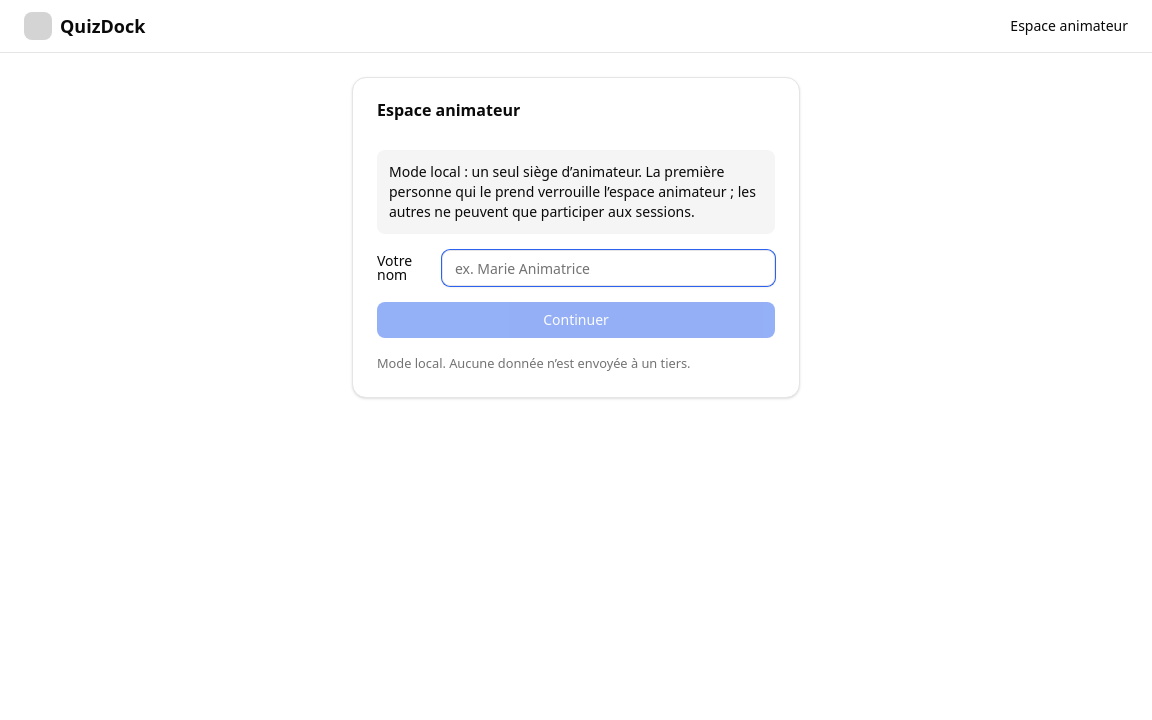
LoginPage › connecte en mode local et redirige vers le tableau de bord
The image size is (1152, 720).
Type "Marie" into the field labelled "Votre nom" at (608, 268), box x1=442 y1=250 x2=775 y2=286
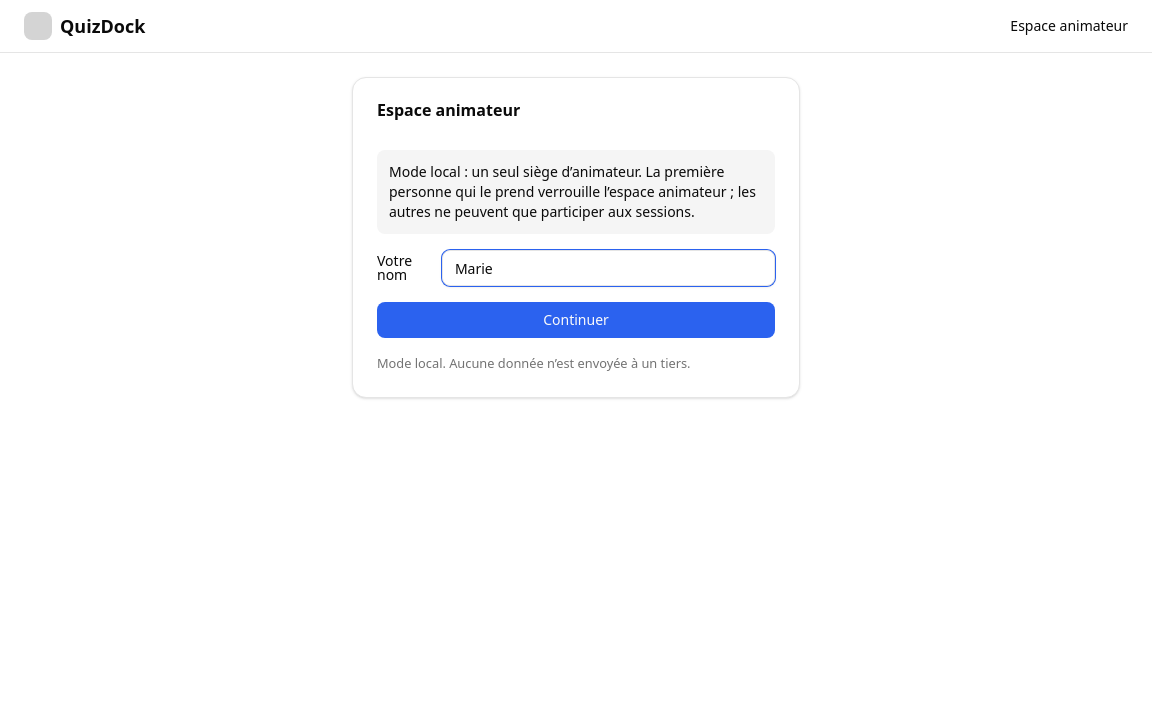
Click the button "Continuer" at (576, 320), box x1=377 y1=302 x2=775 y2=338
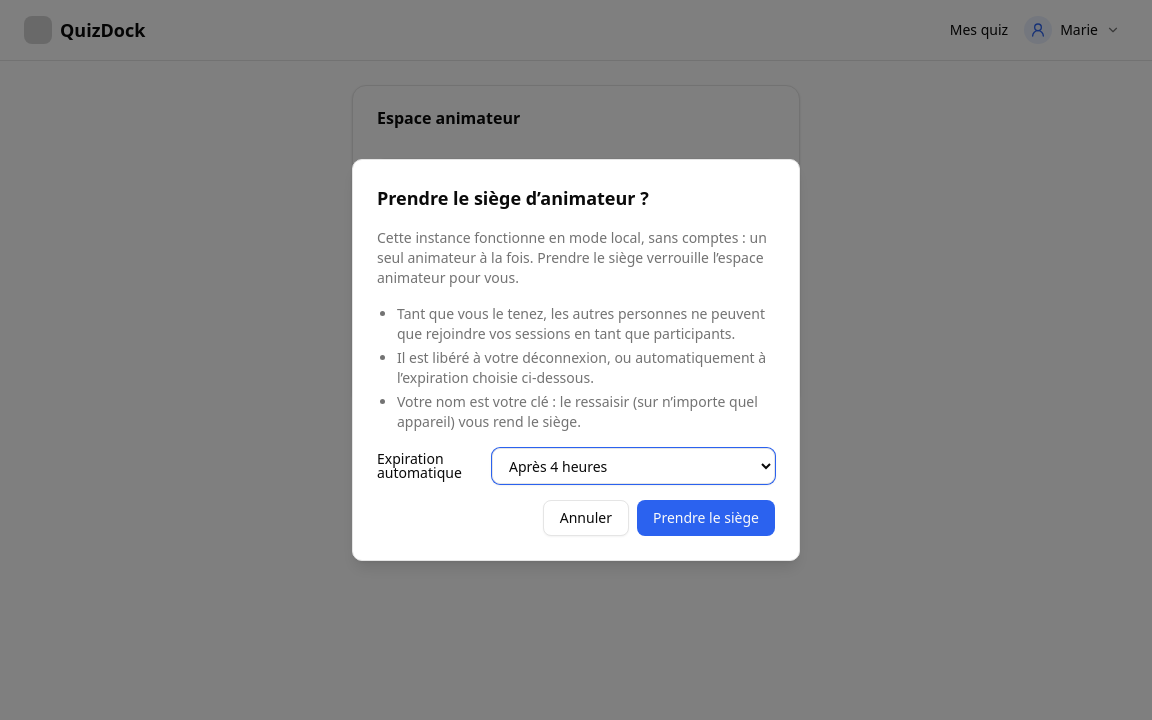
Expected: the text "Marie" is shown, x1=1060 y1=20 x2=1098 y2=40
Expected: the link "Mes quiz" is shown, x1=950 y1=20 x2=1008 y2=40
